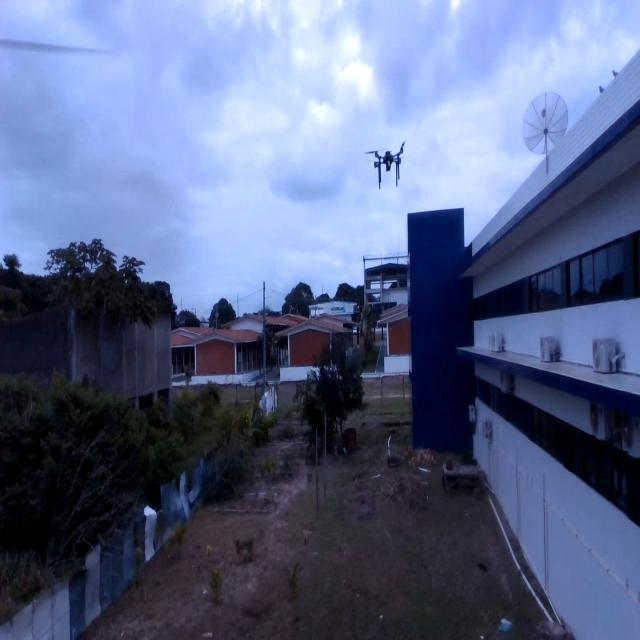-uav-: (356, 132, 416, 197)
